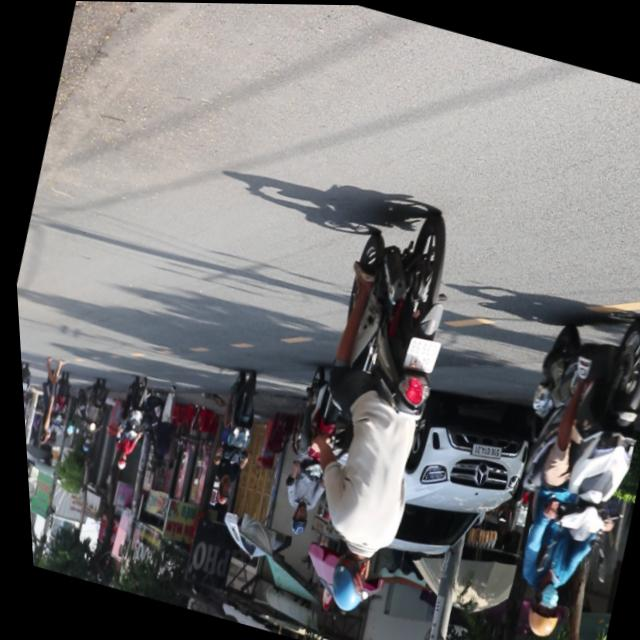helmet: (314, 539, 373, 617), (512, 576, 561, 640), (280, 502, 305, 537)
licenseplate: (249, 188, 491, 628), (455, 289, 640, 640), (258, 359, 355, 541), (190, 365, 269, 510)
nohelmet: (396, 333, 437, 373)
